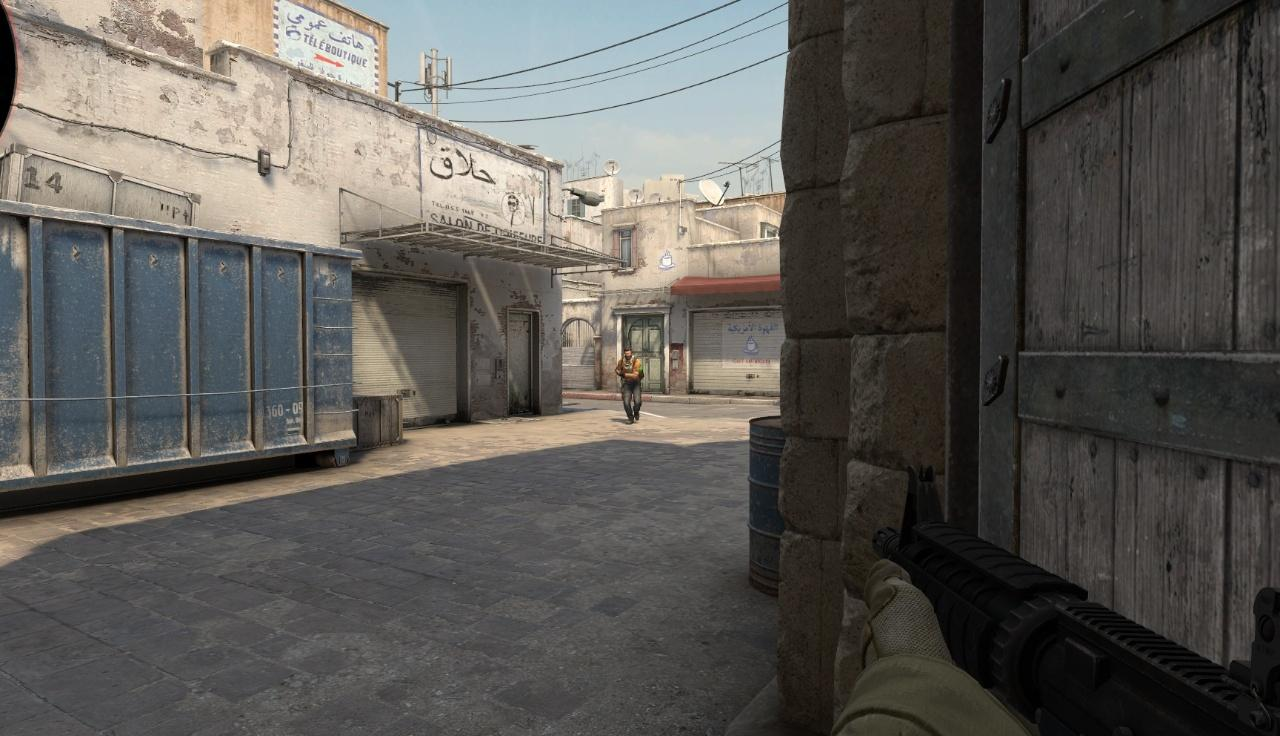rifle: (833, 464, 1280, 736), (616, 349, 644, 425)
tthead: (624, 349, 632, 360)
